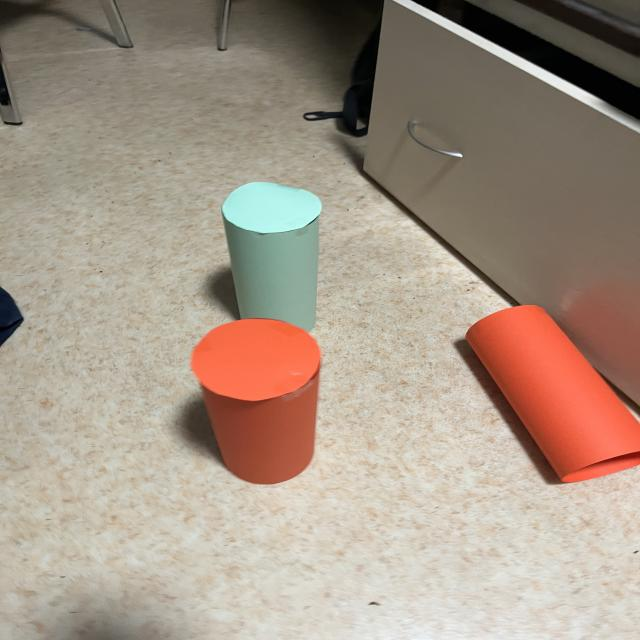meta: (222, 182, 322, 332)
przeszkoda: (466, 305, 640, 481), (190, 318, 321, 484)
